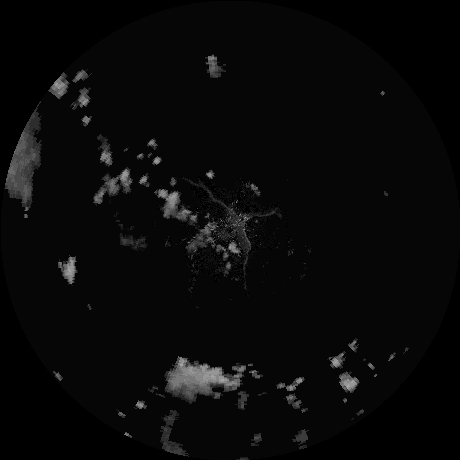frontgust: (194, 182, 252, 268)
